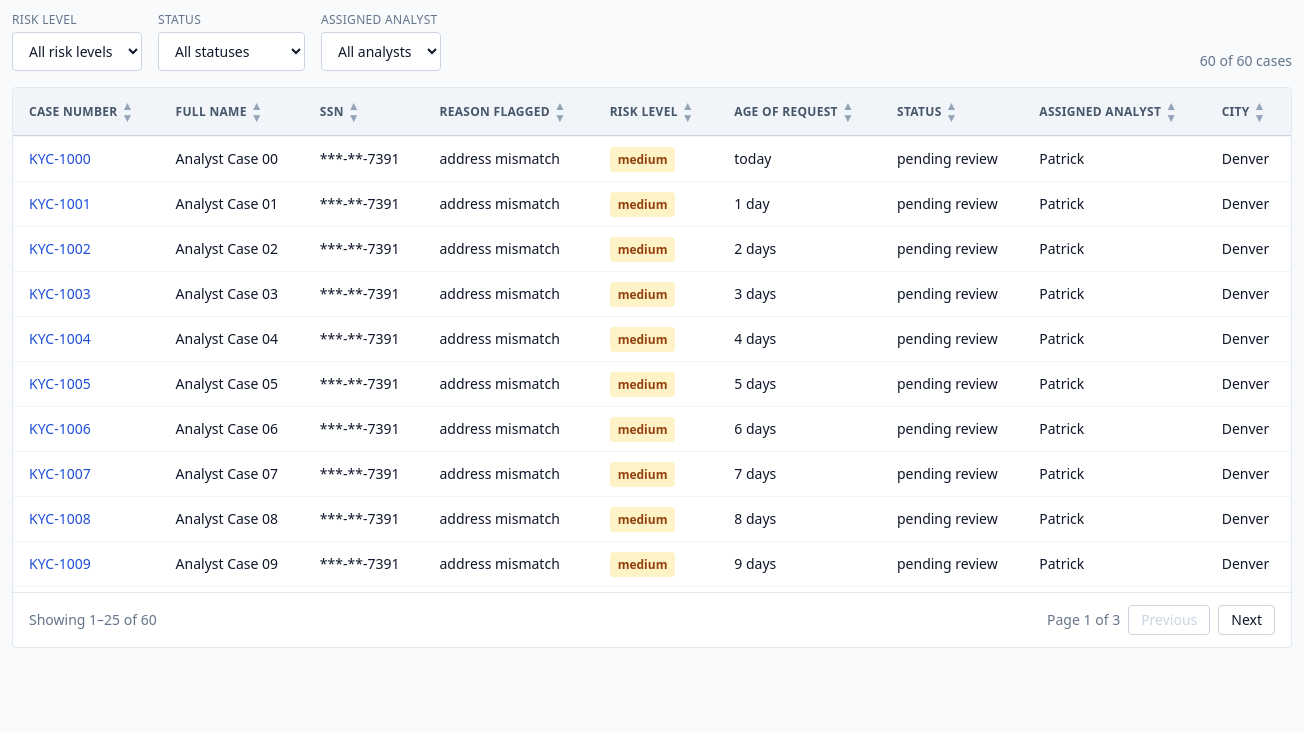
Scenario: CaseQueue pagination › returns to the first page when sorting or filtering changes
Click the button "Next" at {"x": 1247, "y": 620}, box [1218,605,1275,635]
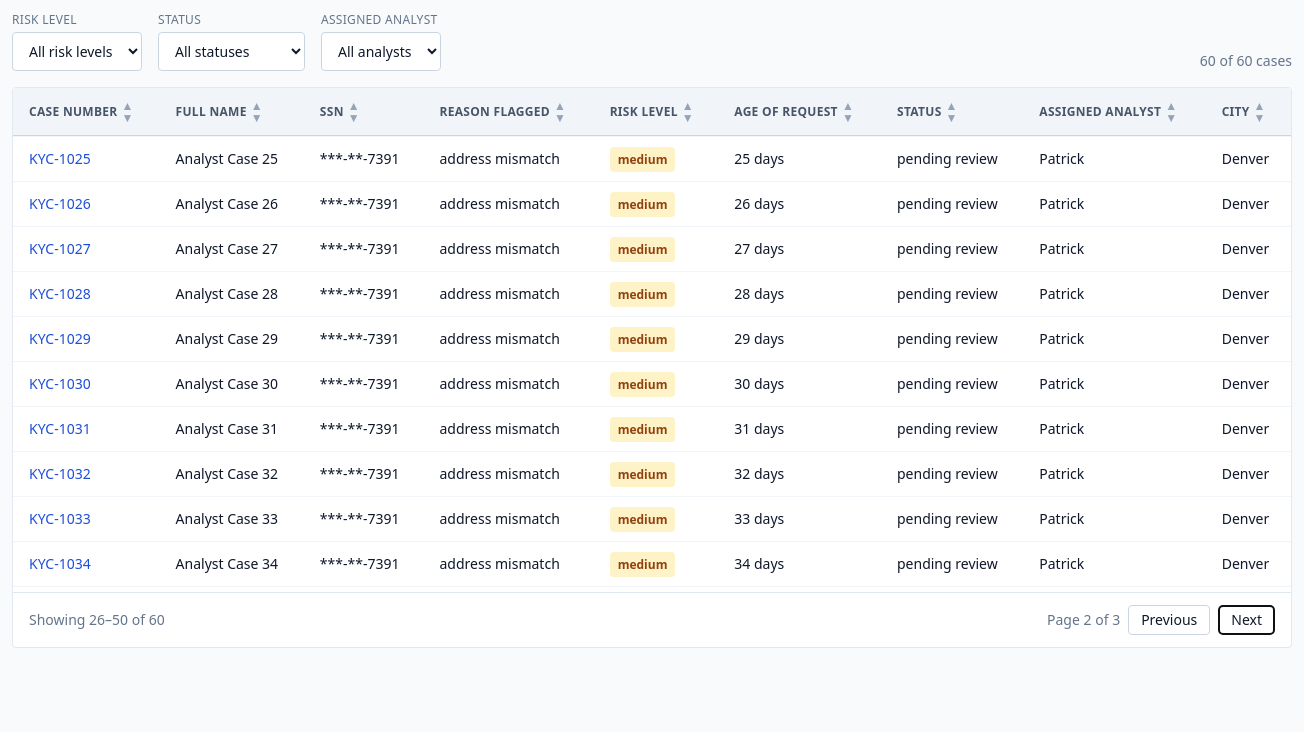
Check: the text with test id "page-indicator" reads "Page 2 of 3", box [1047,610,1120,630]
Click the button "City ▲ ▼" at {"x": 1244, "y": 112}, box [1222,100,1266,124]
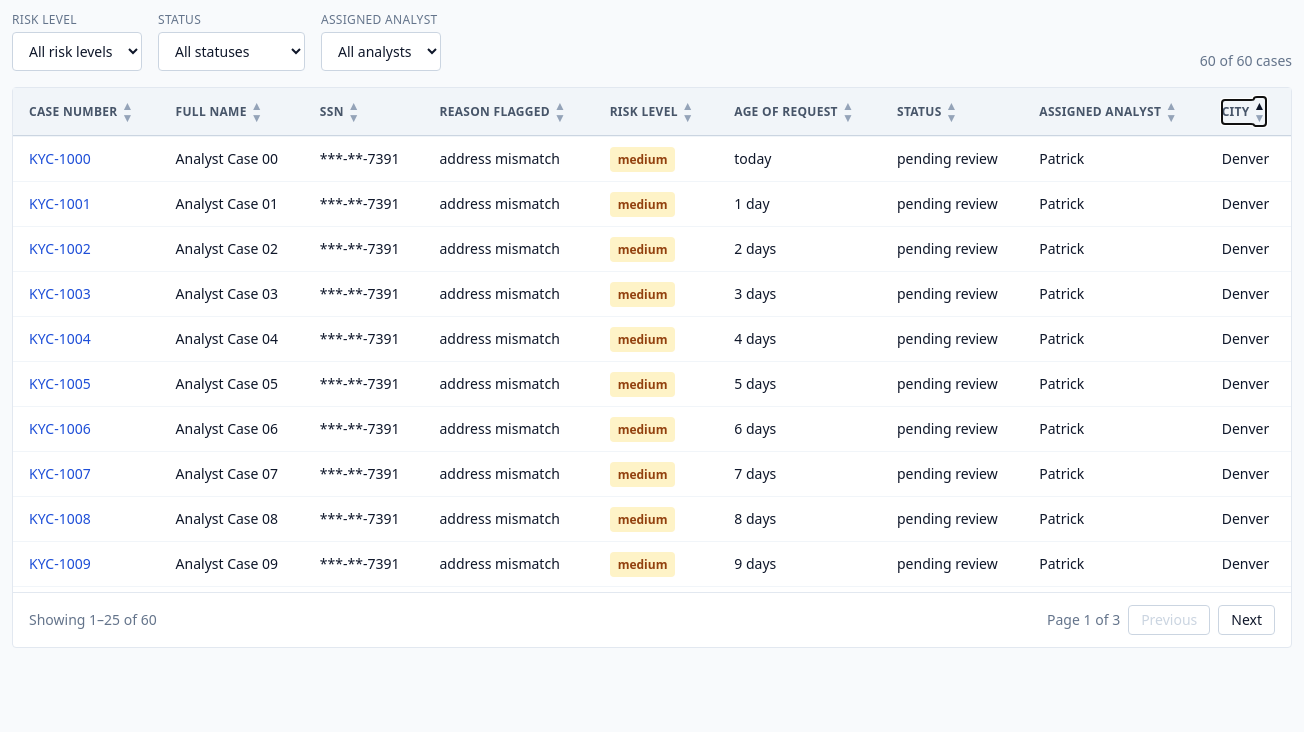
Check: the text with test id "page-indicator" reads "Page 1 of 3", box [1047,610,1120,630]
Click the button "Next" at {"x": 1247, "y": 620}, box [1218,605,1275,635]
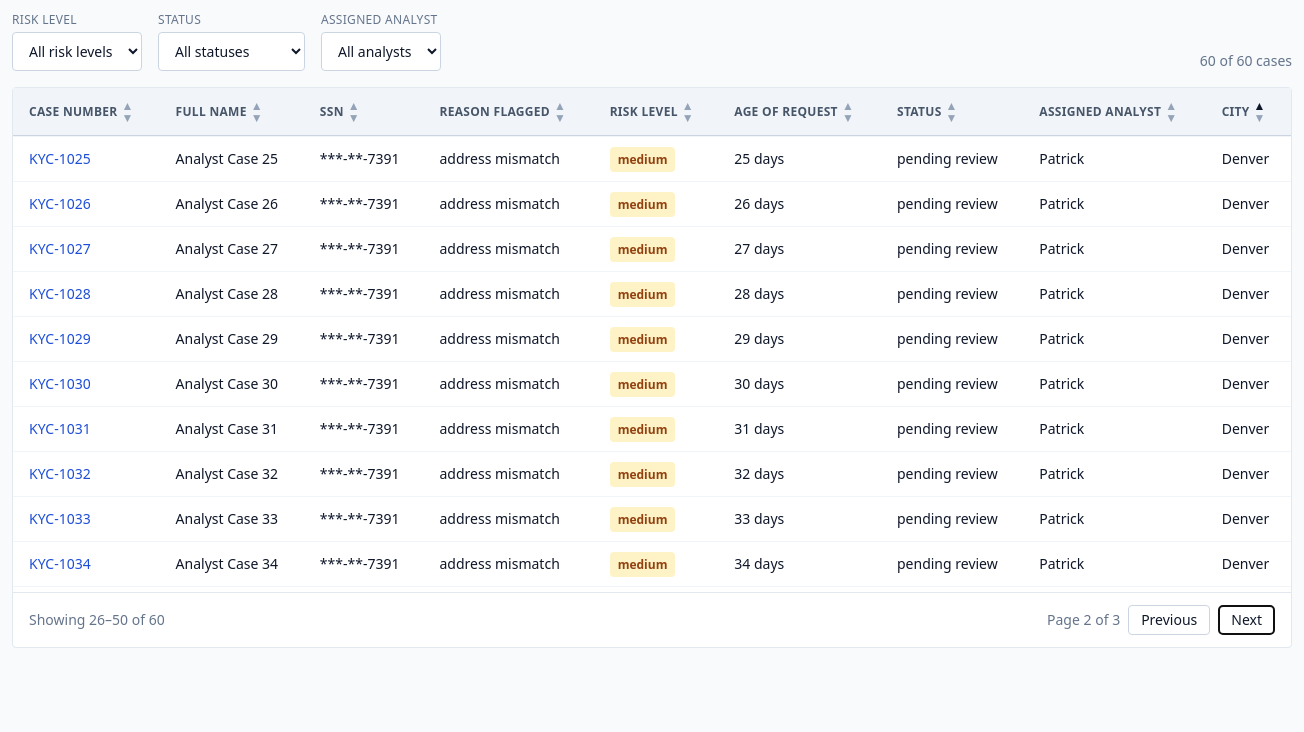
Select "high" in the dropdown labelled "Risk level" at {"x": 77, "y": 52}, box [12,32,142,71]
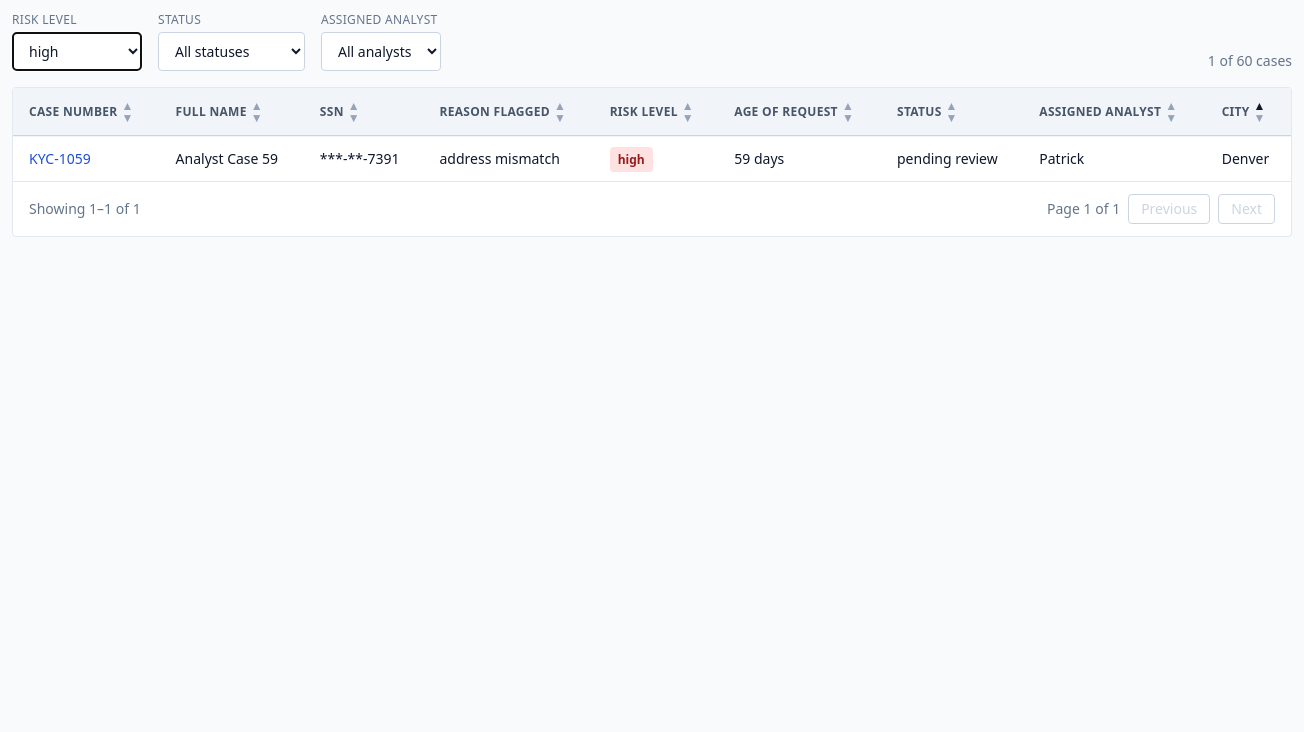
Check: the text with test id "page-indicator" reads "Page 1 of 1", box [1047,199,1120,219]
